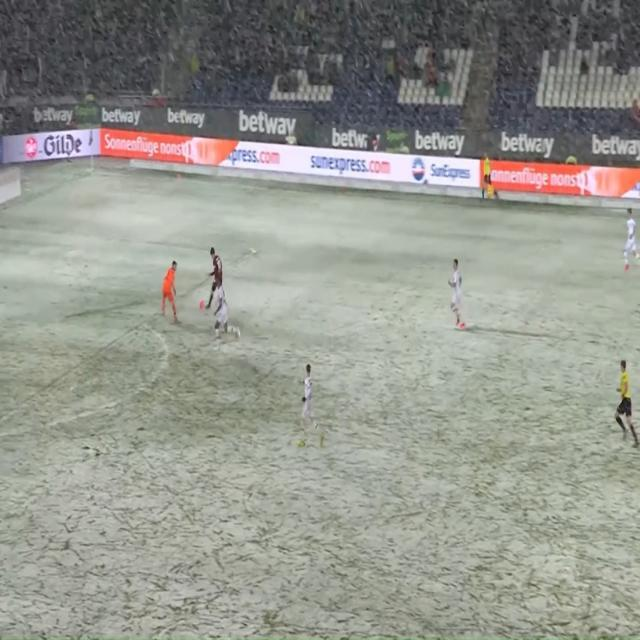ball: (199, 296, 206, 312)
goalkeeper: (154, 250, 184, 326)
player: (295, 355, 326, 454), (208, 273, 240, 349), (443, 253, 467, 337), (620, 192, 640, 281), (204, 245, 226, 312)
referee: (611, 351, 640, 452), (480, 148, 501, 205)
